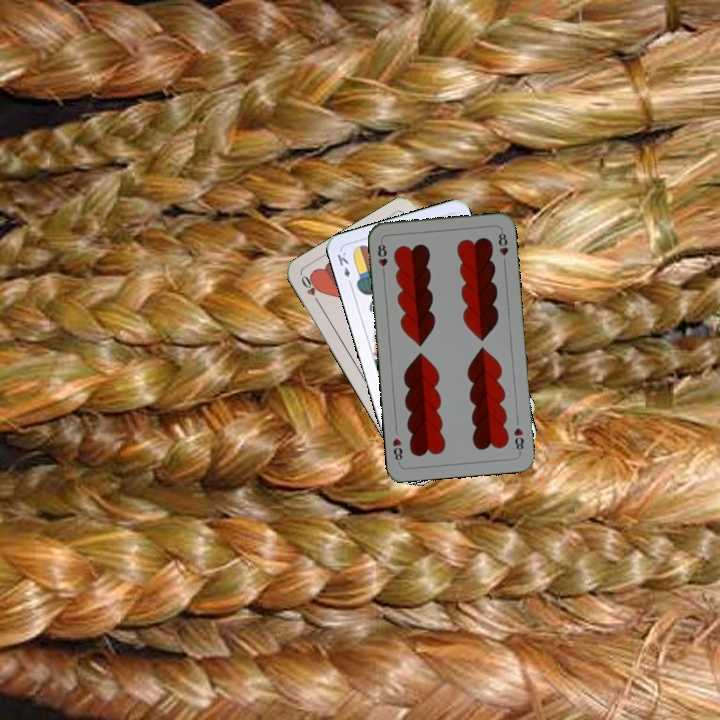EK: (333, 248, 355, 288)
H8: (374, 237, 390, 278), (510, 423, 526, 456)
HO: (297, 272, 323, 308)
